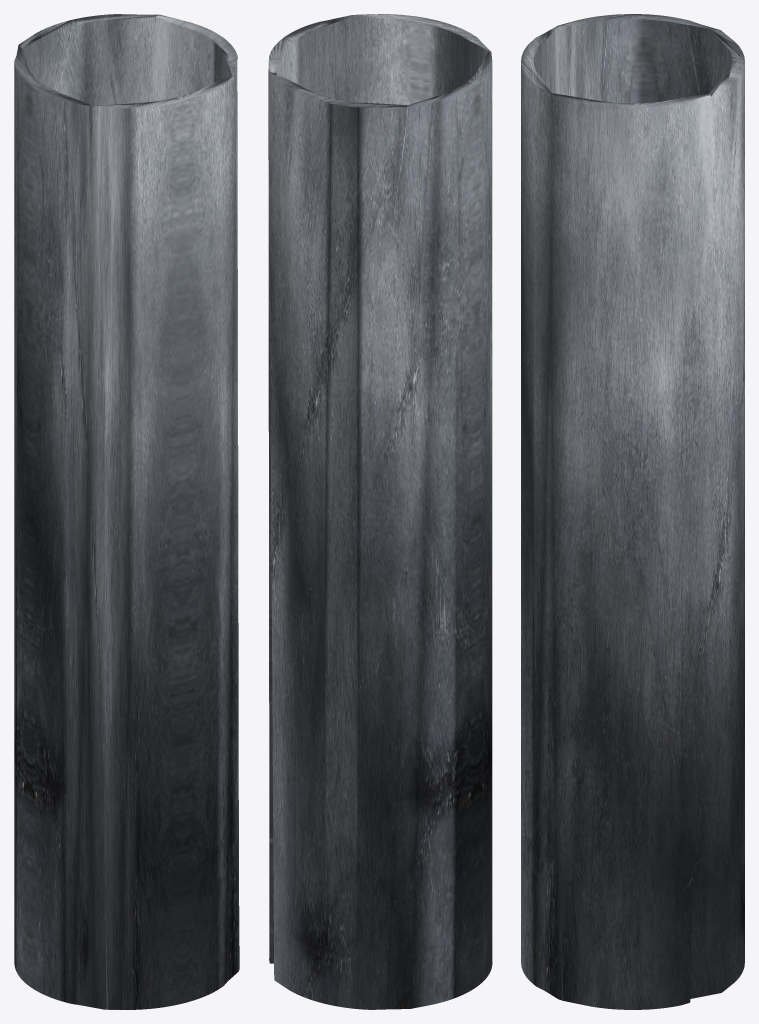
Rendered from Pipe2-model.fbx.
3 renders of one model, left to right at view 1: azimuth 30°, elevation 25°; view 2: azimuth 150°, elevation 25°; view 3: azimuth 270°, elevation 25°, orthographic.
Visible parts, largest first — view 1: PipeA_Straig0; view 2: PipeA_Straig0; view 3: PipeA_Straig0.
Boxes of the visible parts, x1=… form: PipeA_Straig0: x1=14, y1=14, x2=239, y2=1009; PipeA_Straig0: x1=268, y1=14, x2=492, y2=1009; PipeA_Straig0: x1=521, y1=14, x2=744, y2=1009.
Bounding box in the file's own units: 2.25 × 10 × 2.25.
1 material, 1 textured.
